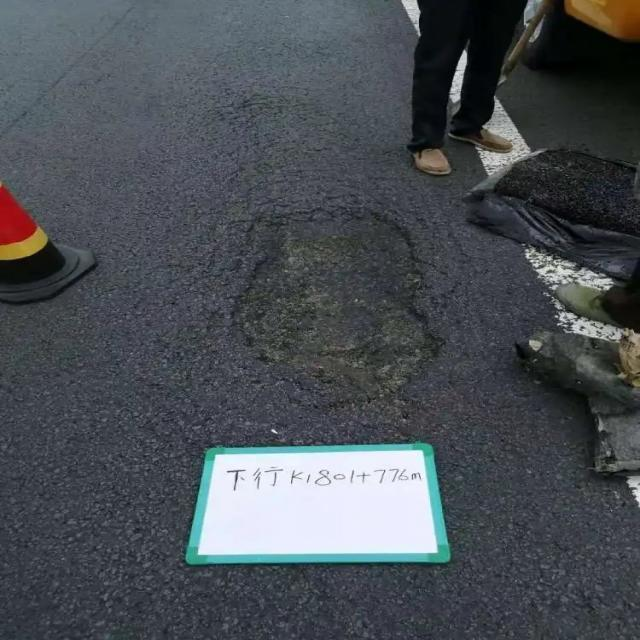pothole: (228, 209, 446, 403)
